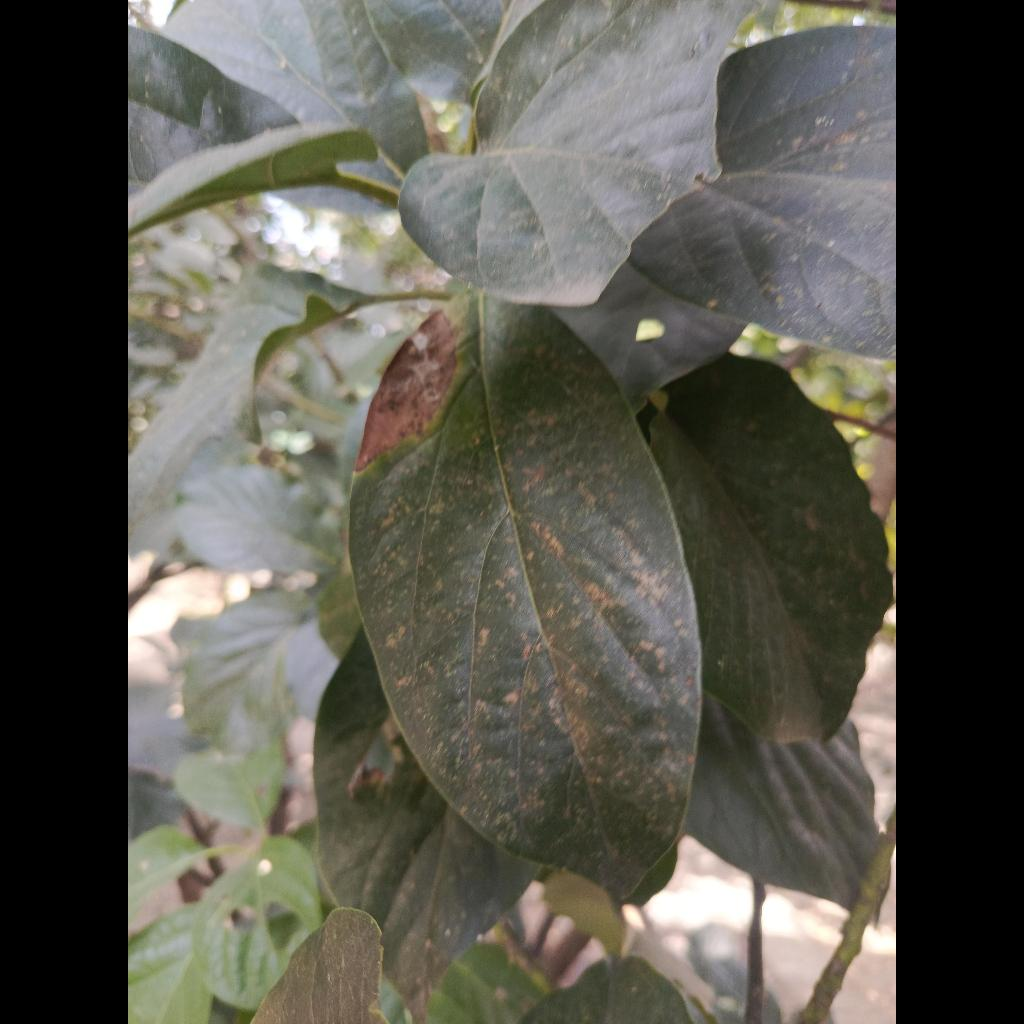antracnosis_hoja: (350, 294, 700, 895)
